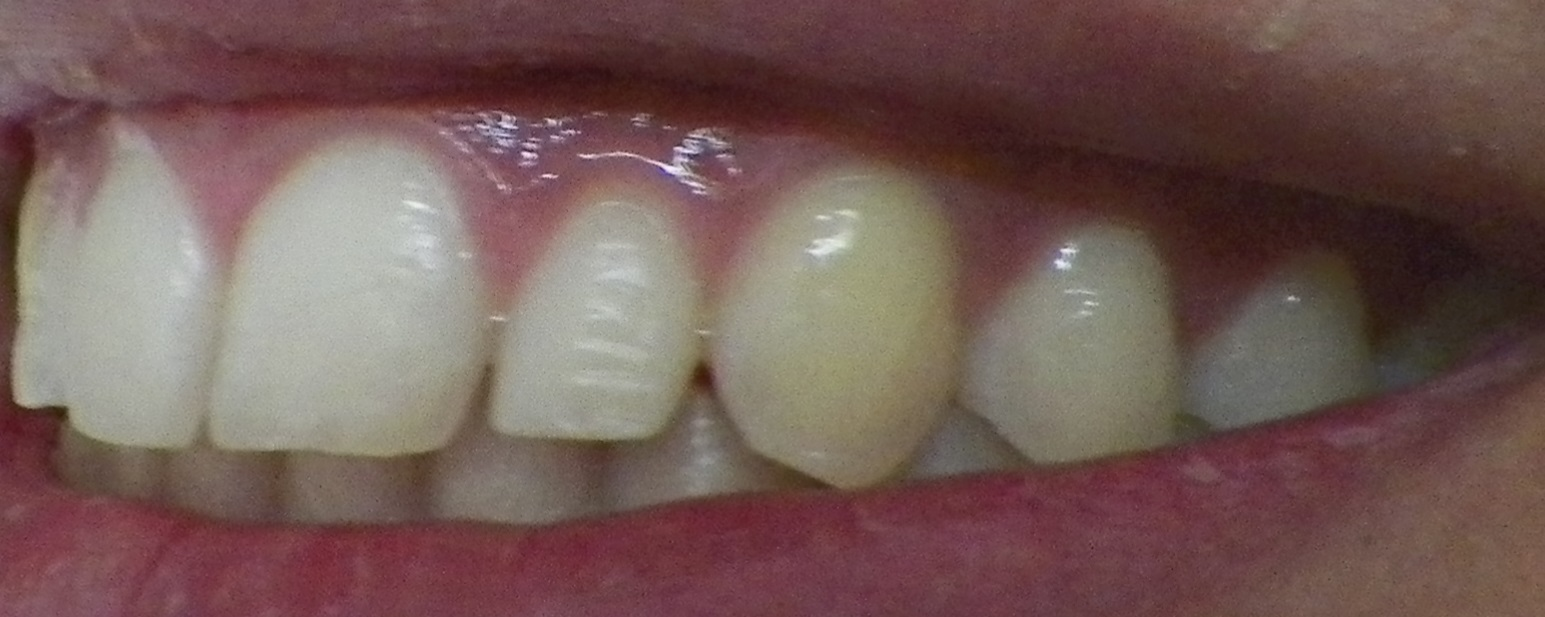boca: (14, 132, 1386, 516)
